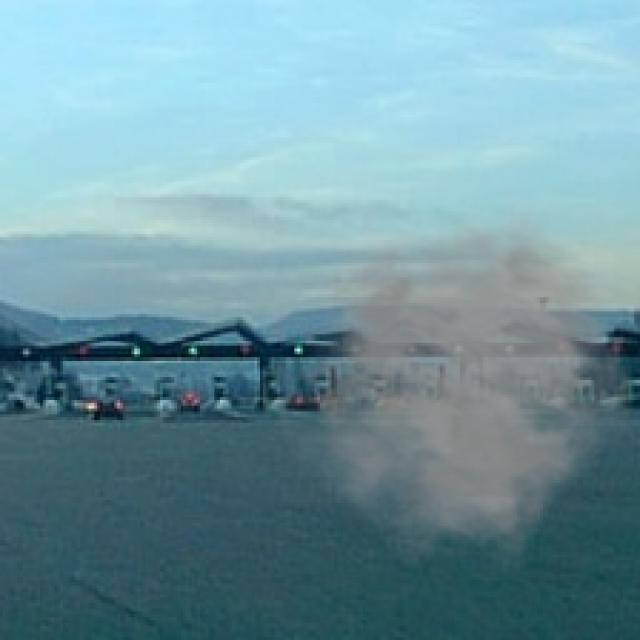smoke: (272, 212, 634, 574)
